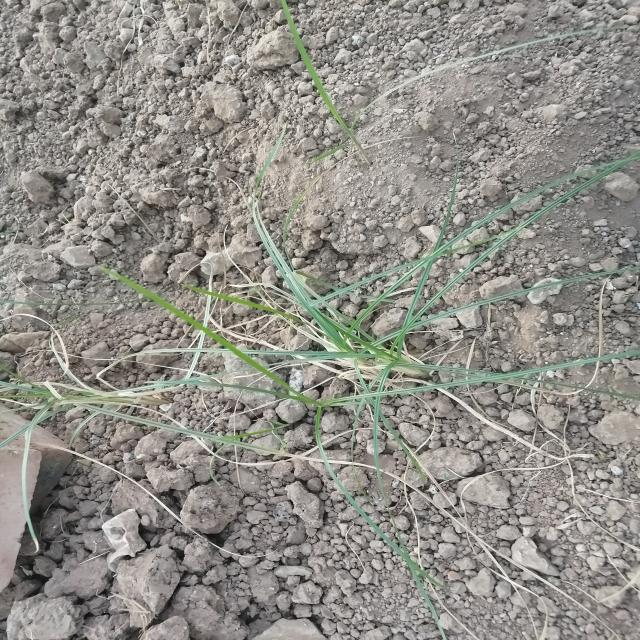sedge: (87, 210, 556, 498)
